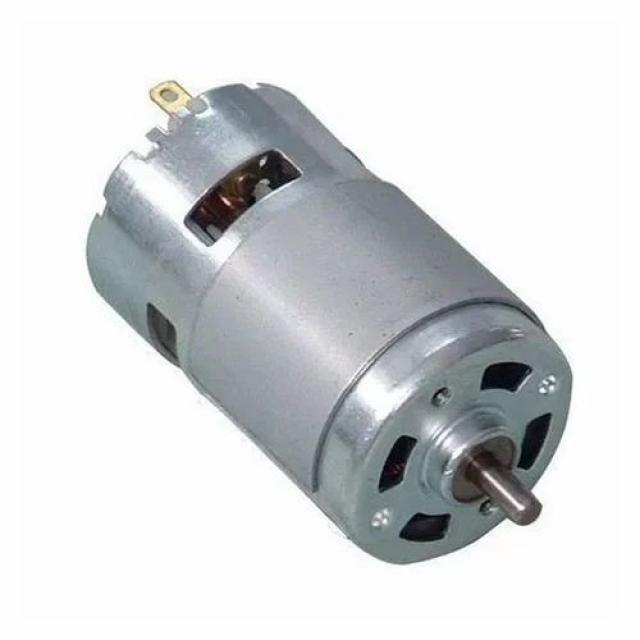motor: (84, 76, 580, 558)
